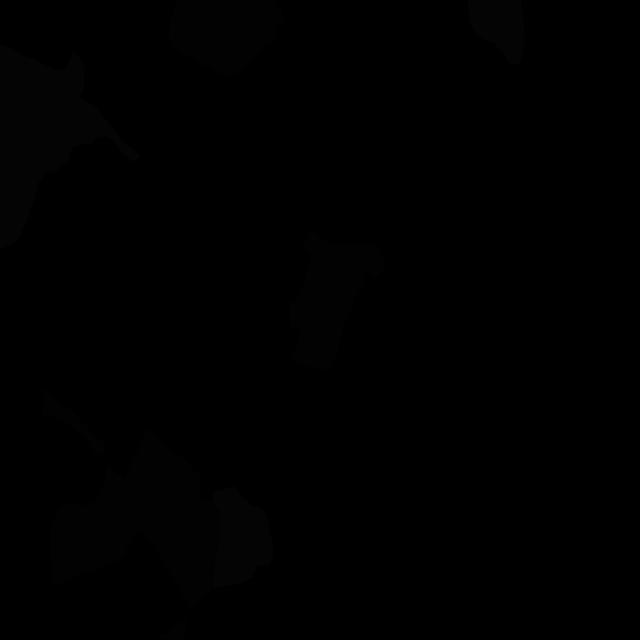cardboard: (50, 428, 220, 612), (289, 229, 386, 370), (168, 0, 284, 76), (42, 388, 106, 455), (155, 617, 187, 640)
soft_plastic: (0, 44, 141, 249), (212, 486, 273, 588), (468, 0, 525, 64)
